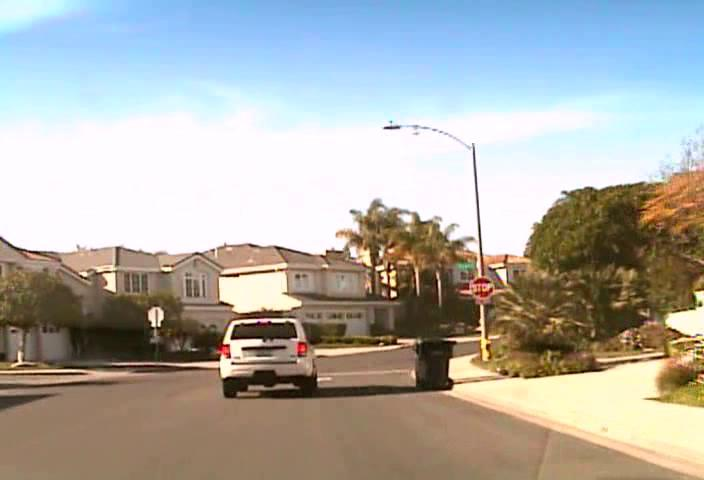stop: (470, 276, 494, 300)
